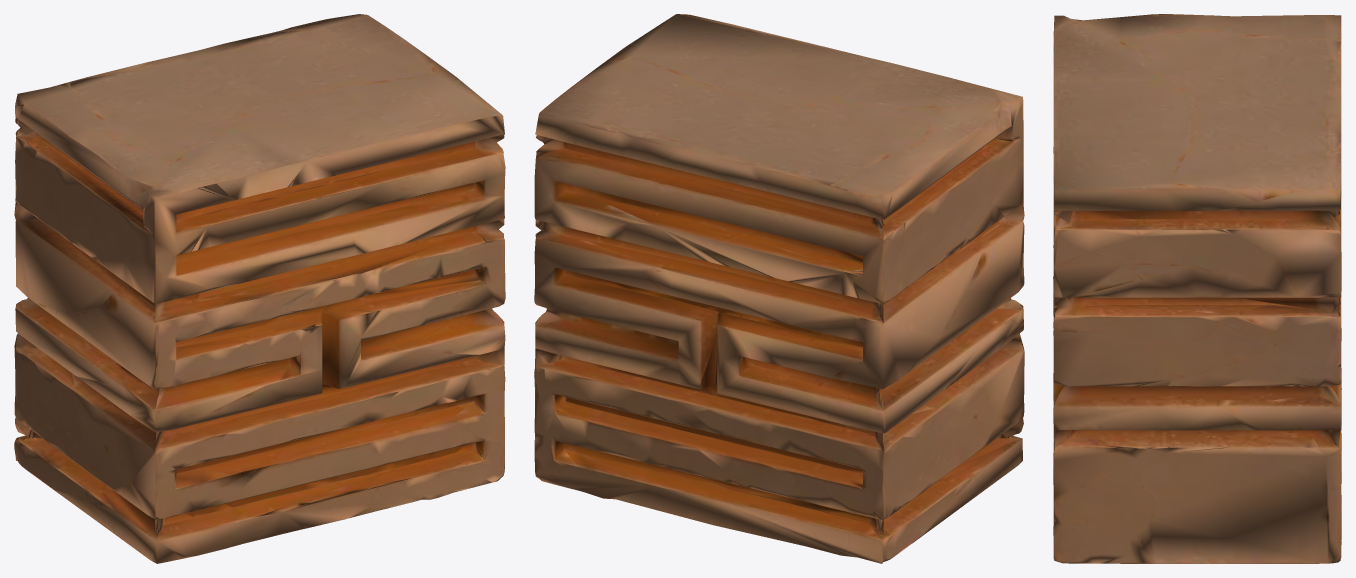
3 views of the same model, side by side, from view 1: azimuth 30°, elevation 25°; view 2: azimuth 150°, elevation 25°; view 3: azimuth 270°, elevation 25° (orthographic). The views are drawn at different scales.
Visible parts, largest first — view 1: node_0; view 2: node_0; view 3: node_0.
Part boxes in pixels (bbox=[...]): node_0: bbox=[14, 14, 505, 563]; node_0: bbox=[534, 14, 1024, 563]; node_0: bbox=[1053, 14, 1341, 563].
Bounding box in the file's own units: 0.7633 × 0.7687 × 0.5323.
1 material, 1 textured.
